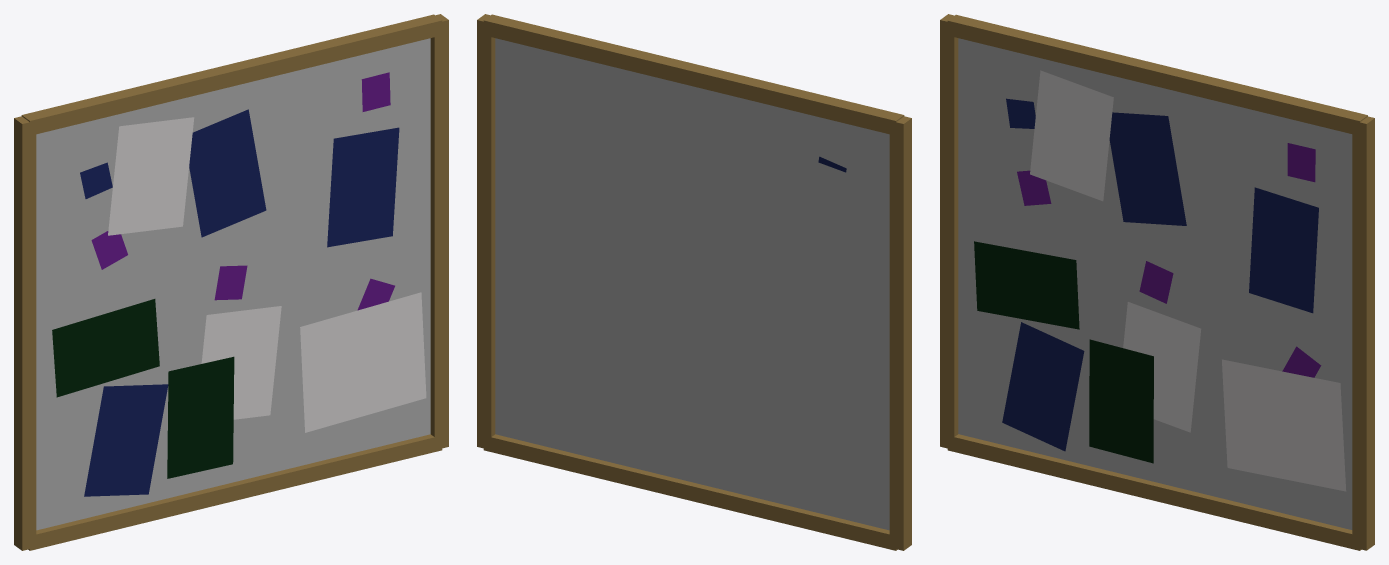
File: board.fbx
3 renders of one model, left to right at view 1: azimuth 30°, elevation 25°; view 2: azimuth 150°, elevation 25°; view 3: azimuth 330°, elevation 25°, orthographic.
Visible parts, largest first — view 1: Plane, Plane4, Box, Box2, Plane7, Box3, Box1, Plane8, Plane10, Plane9, Plane3, Plane5 (+6 smaller); view 2: Plane, Box, Box2, Box3, Box1; view 3: Plane, Plane4, Box1, Box2, Box, Plane7, Box3, Plane8, Plane10, Plane3, Plane9, Plane5 (+6 smaller).
Boxes of the visible parts, <box> form: Plane: <box>36,38,430,530</box>; Plane4: <box>300,292,426,432</box>; Box: <box>14,116,36,550</box>; Box2: <box>21,14,442,135</box>; Plane7: <box>108,117,194,235</box>; Box3: <box>28,434,442,550</box>; Box1: <box>430,14,448,449</box>; Plane8: <box>52,299,159,397</box>; Plane10: <box>84,384,168,496</box>; Plane9: <box>167,356,234,478</box>; Plane3: <box>327,127,399,247</box>; Plane5: <box>189,109,266,237</box>; Plane: <box>495,38,889,530</box>; Box: <box>889,116,911,550</box>; Box2: <box>483,14,904,135</box>; Box3: <box>483,434,897,550</box>; Box1: <box>477,14,495,449</box>; Plane: <box>958,38,1352,529</box>; Plane4: <box>1222,359,1346,491</box>; Box1: <box>1352,116,1374,550</box>; Box2: <box>947,14,1367,135</box>; Box: <box>940,14,958,449</box>; Plane7: <box>1030,70,1113,201</box>; Box3: <box>947,434,1361,550</box>; Plane8: <box>974,241,1079,329</box>; Plane10: <box>1002,322,1084,451</box>; Plane3: <box>1249,187,1318,313</box>; Plane9: <box>1089,339,1153,463</box>; Plane5: <box>1109,112,1186,225</box>.
Bounding box in the file's own units: 1.03 × 0.9964 × 0.0386.
